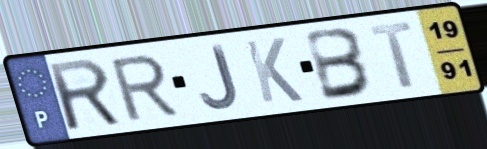B: (303, 25, 377, 104)
J: (197, 42, 242, 112)
K: (240, 35, 306, 106)
R: (44, 56, 126, 134), (106, 52, 182, 124)
T: (366, 19, 418, 92)
